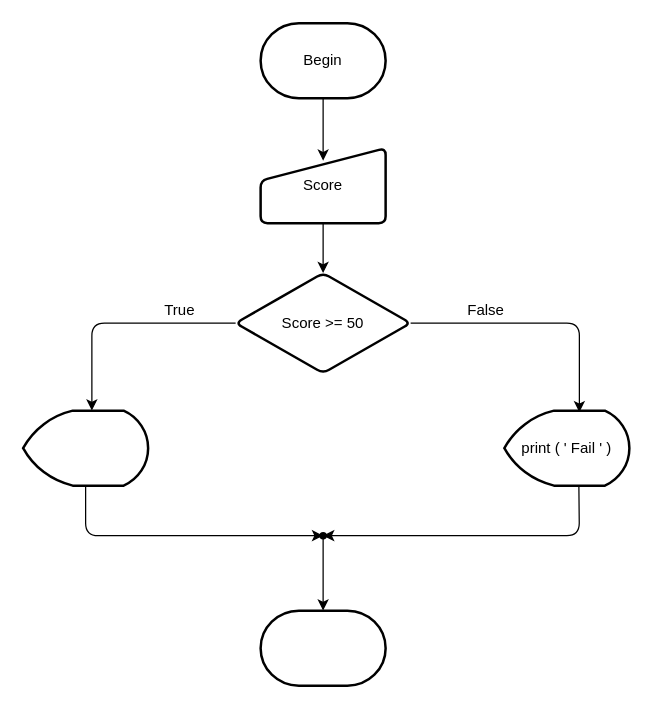
This 651x708 diagram has some shape labels left out. The shapes that lost their labels are listed below. From the top down, each one's centre as x and y in pixels, then its label:
(85,447): print ( ' Pass ' )
(322,647): End
